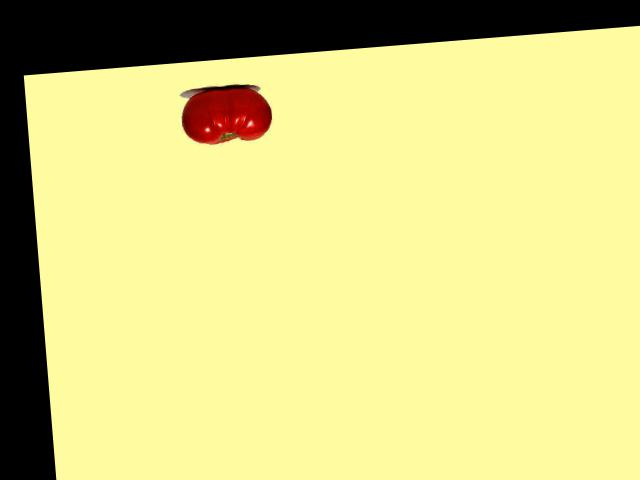tomato: (180, 84, 274, 146)
